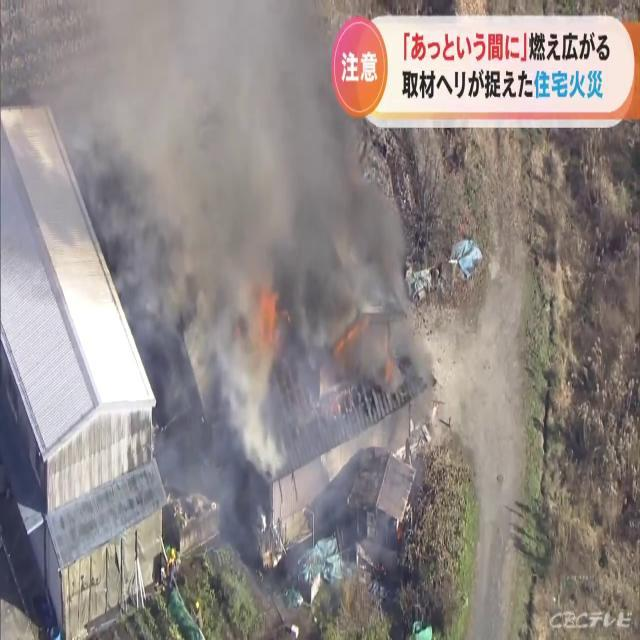Smoke: (137, 0, 431, 552)
